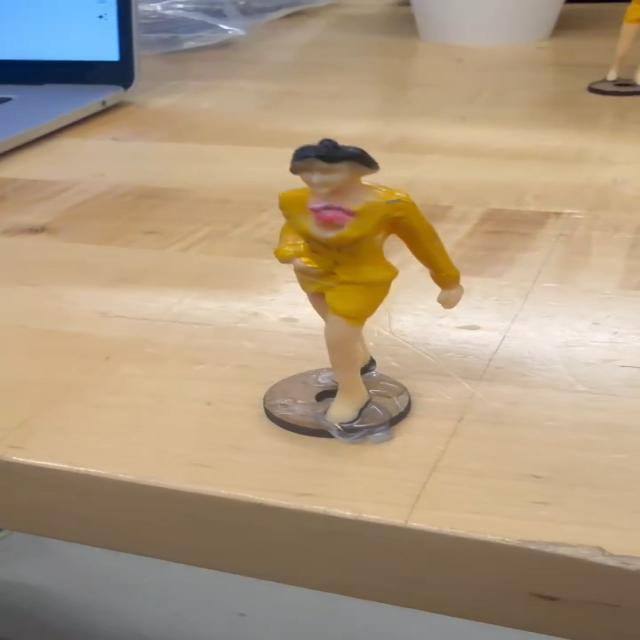Authorized: (256, 140, 478, 436)
